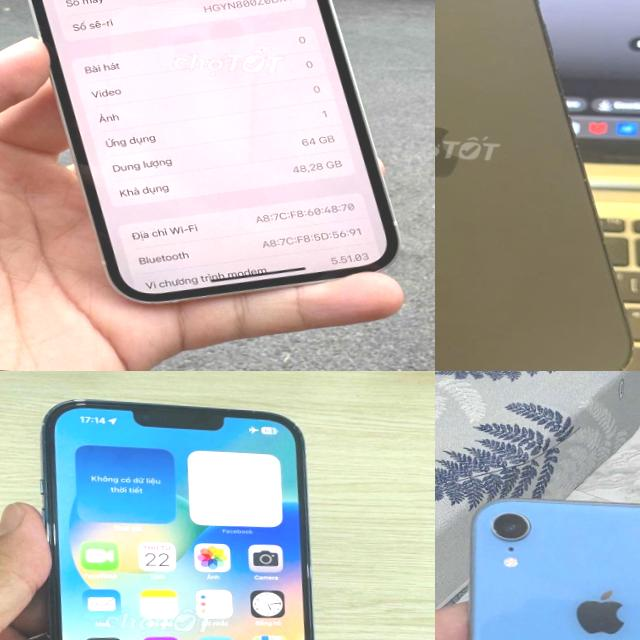gen_12_13: (0, 0, 424, 317), (13, 392, 348, 640)
gen_14: (435, 0, 640, 371)
gen_x_xs: (443, 484, 640, 640)
scratch: (482, 516, 508, 536)
